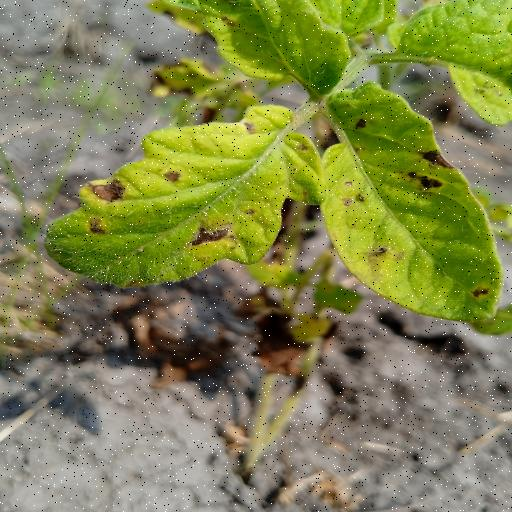Tomato_Brown_Spots: (35, 100, 331, 294), (317, 75, 512, 350)
